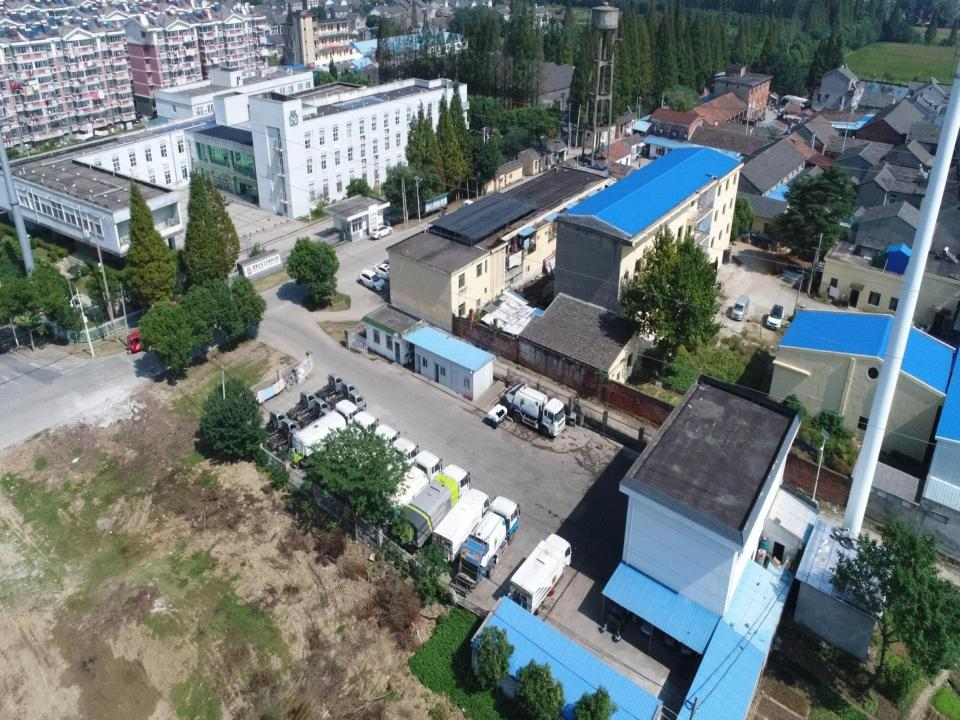car: (360, 269, 386, 293), (766, 305, 783, 330), (370, 227, 394, 239), (376, 263, 390, 279), (459, 199, 478, 208), (383, 260, 392, 272), (134, 112, 144, 118), (133, 119, 141, 124)
truck: (391, 467, 471, 545), (452, 499, 522, 588), (507, 532, 577, 616), (376, 452, 442, 522), (293, 398, 360, 463), (433, 488, 492, 557), (356, 439, 418, 503), (501, 384, 572, 436), (319, 414, 377, 476), (344, 426, 398, 482), (600, 598, 629, 642), (299, 399, 330, 431), (305, 408, 341, 434), (260, 410, 289, 442), (268, 421, 300, 449), (278, 430, 306, 462), (286, 392, 316, 420), (316, 371, 342, 401), (330, 382, 357, 409), (340, 390, 367, 415), (662, 634, 678, 652), (640, 622, 654, 638)
van: (732, 294, 750, 320)
